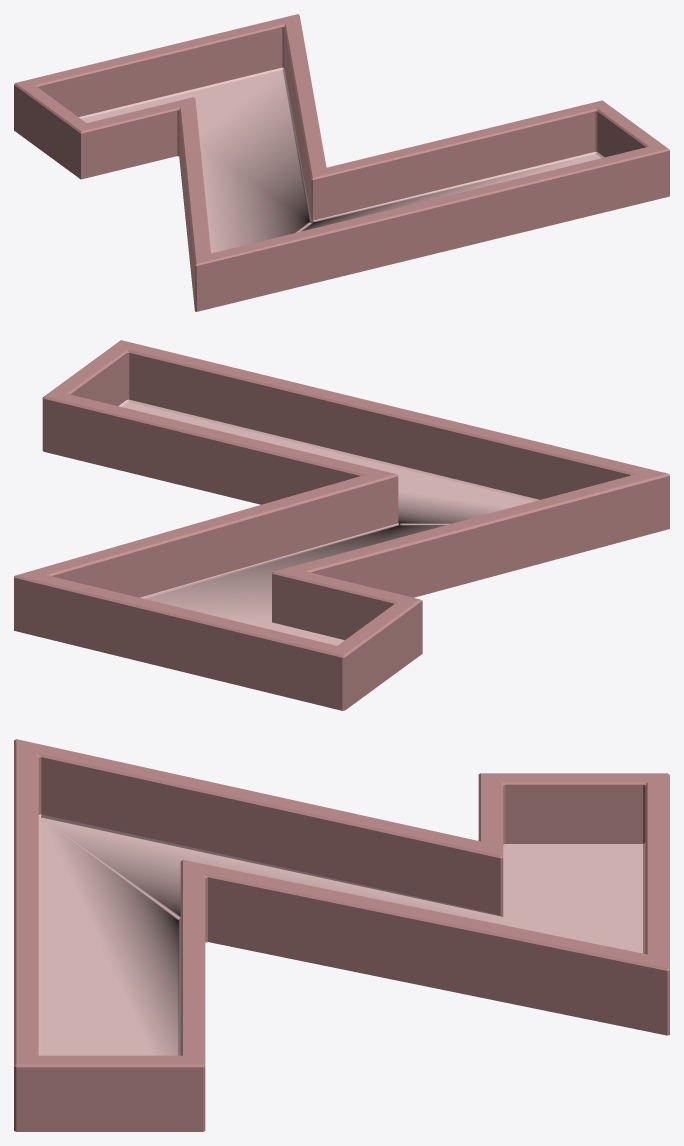
The picture shows the model from 3 angles, top to bottom: view 1: azimuth 30°, elevation 25°; view 2: azimuth 150°, elevation 25°; view 3: azimuth 270°, elevation 25°; orthographic projection. The views are drawn at different scales.
Visible parts, largest first — view 1: Table_Z; view 2: Table_Z; view 3: Table_Z.
Part boxes in pixels (<box>): Table_Z: <box>14,14,669,311</box>; Table_Z: <box>14,340,669,710</box>; Table_Z: <box>14,739,669,1131</box>.
Bounding box in the file's own units: 11.15 × 1.06 × 9.45.
